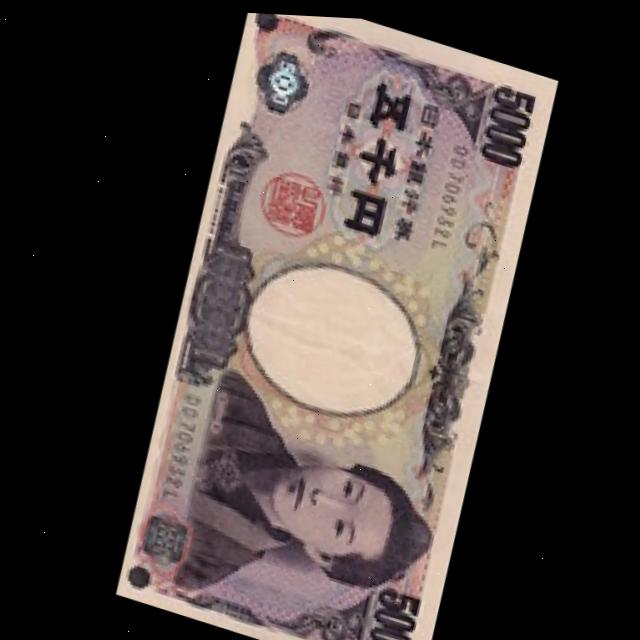banknote: (89, 4, 579, 640)
